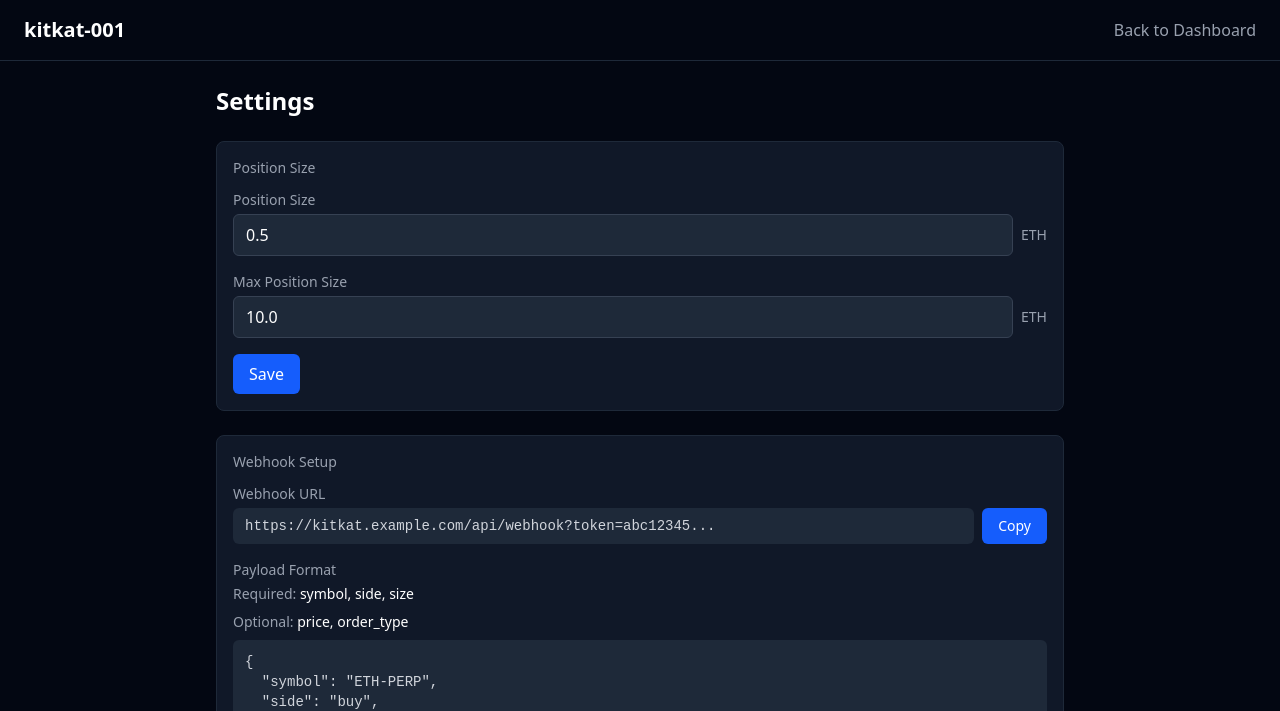
Scenario: SettingsPage › shows validation error when position size exceeds max
Replace the text in the number field labelled "Position Size" with "20" at (623, 235), box x1=233 y1=214 x2=1013 y2=256
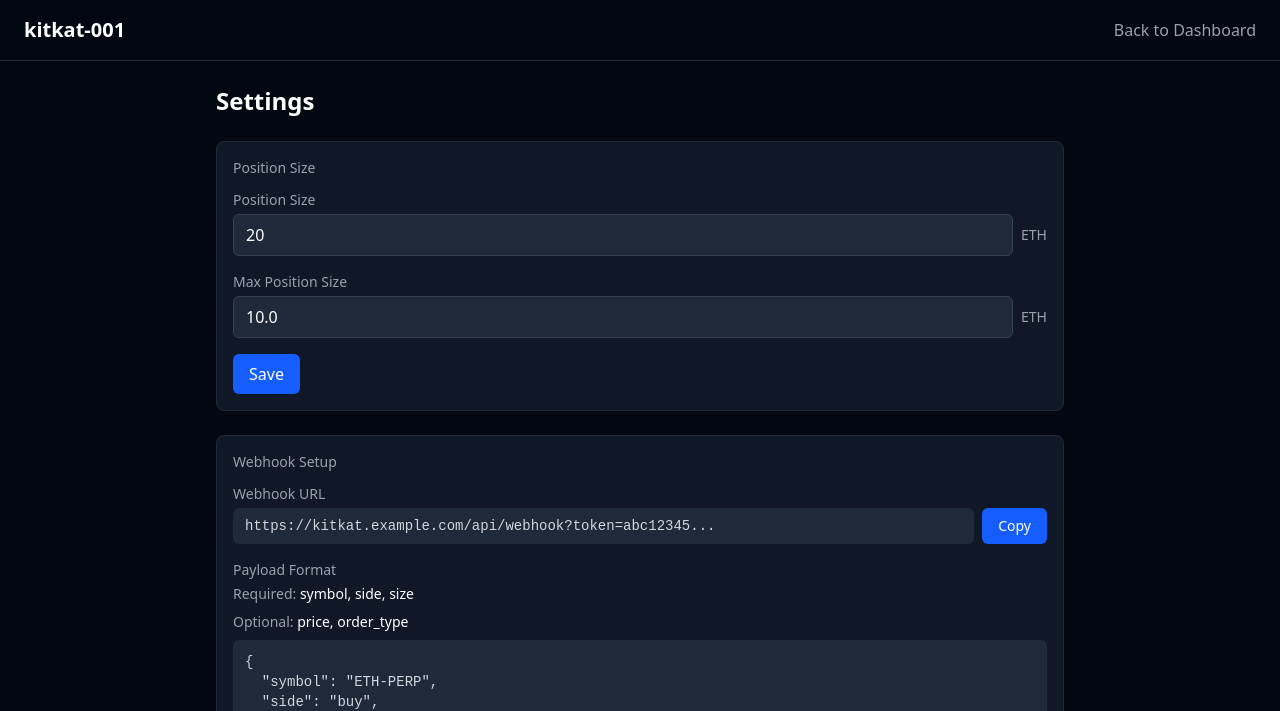
Replace the text in the number field labelled "Max Position Size" with "5" at (623, 317), box x1=233 y1=296 x2=1013 y2=338
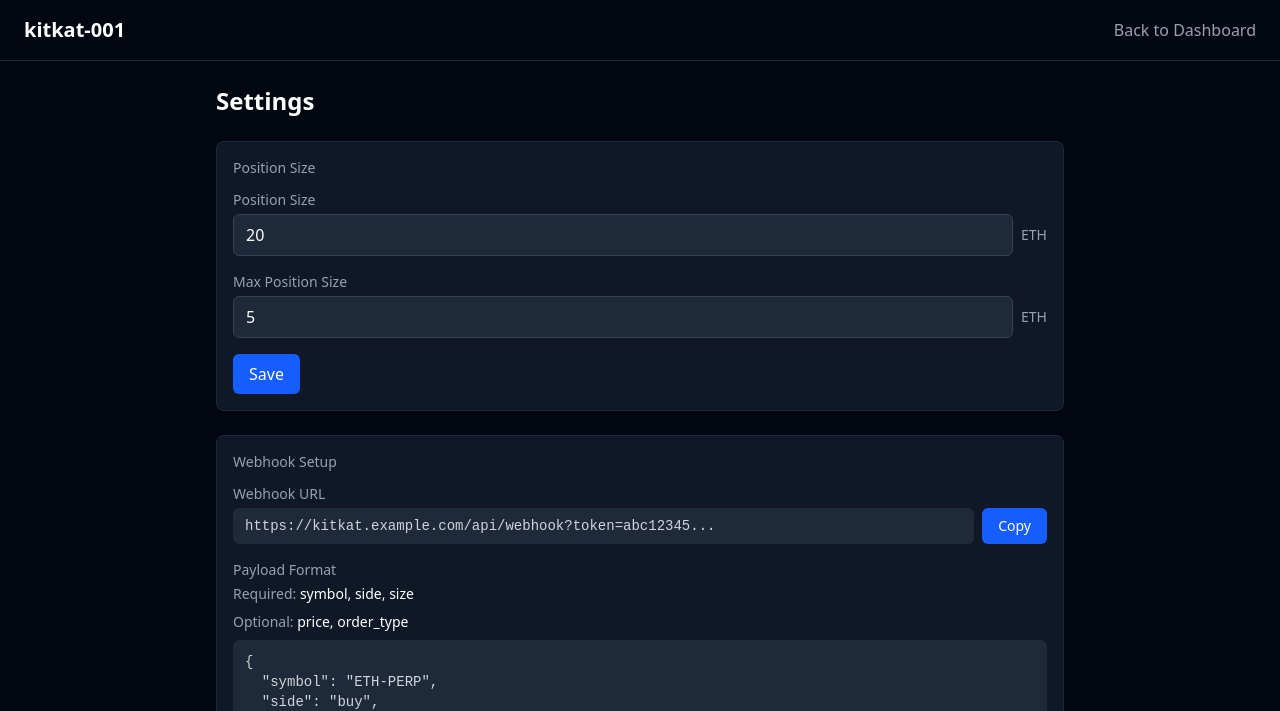
Click the button "Save" at (266, 374), box x1=233 y1=354 x2=300 y2=394
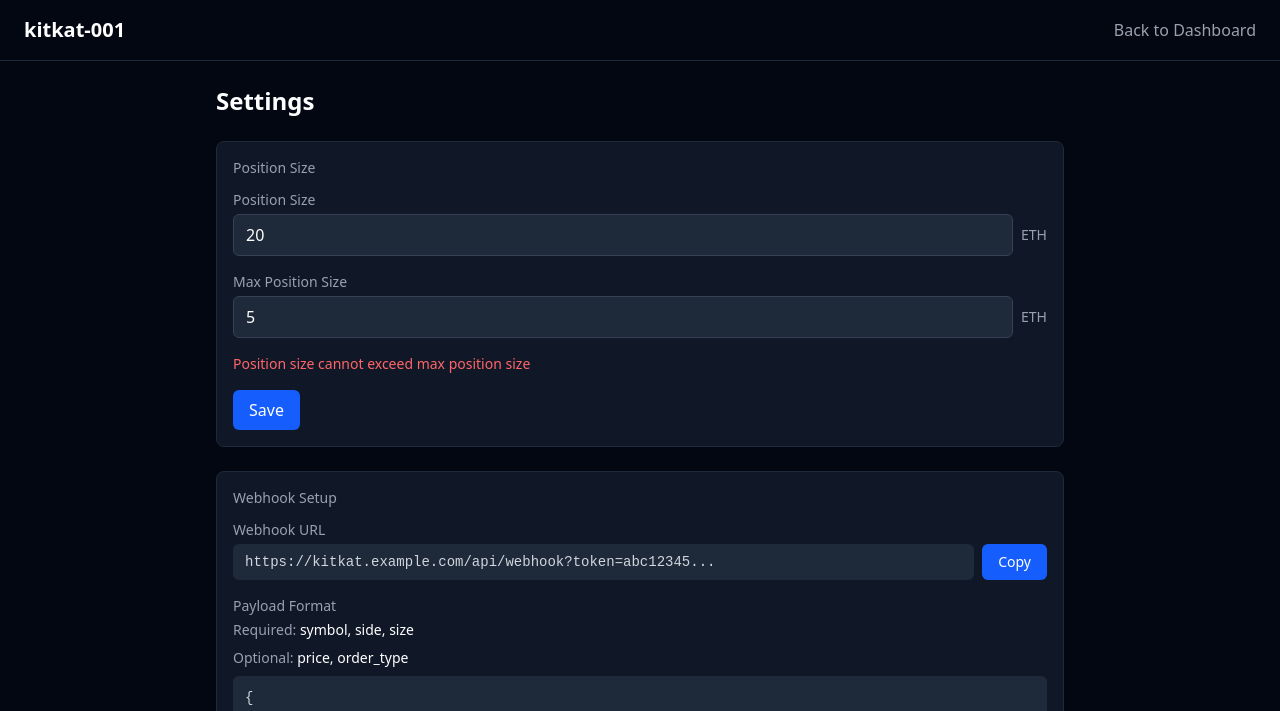
Now the text "Position size cannot exceed max position size" is shown, box x1=233 y1=354 x2=530 y2=373
